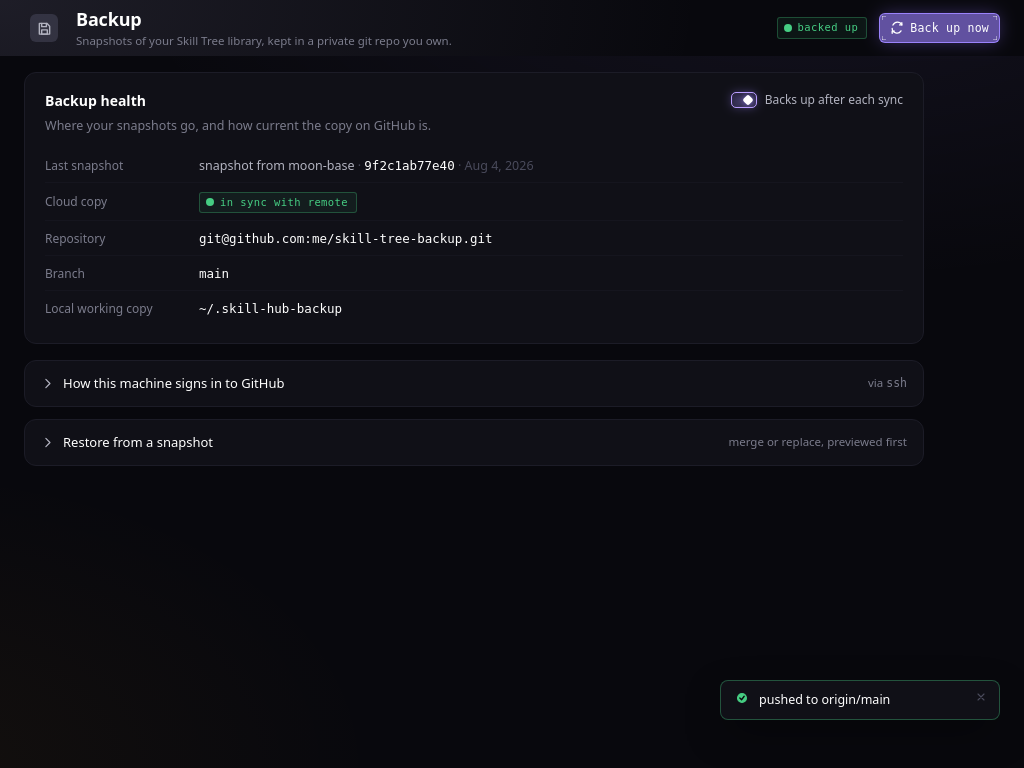
Scenario: BackupScreen — back up now › reports a refused publish as a refusal rather than a success
The image size is (1024, 768).
Click the button "Back up now" at [940, 28], box [879, 13, 1000, 43]
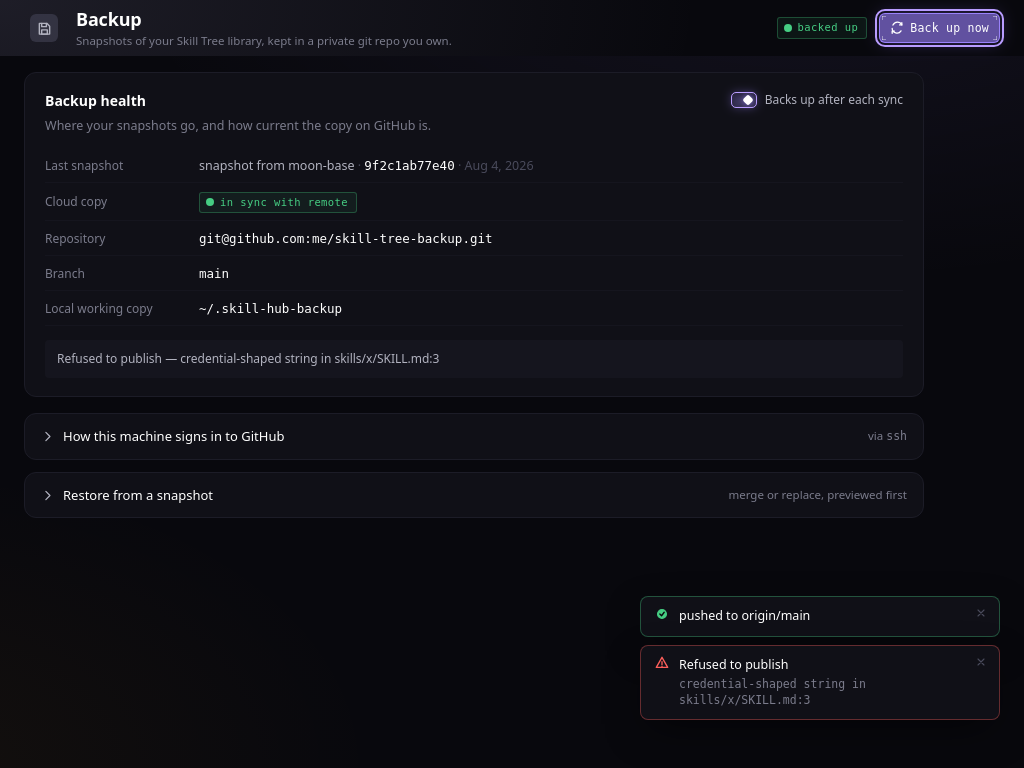
Now the text with test id "backup-result" shows "Refused to publish", box [57, 350, 440, 367]
